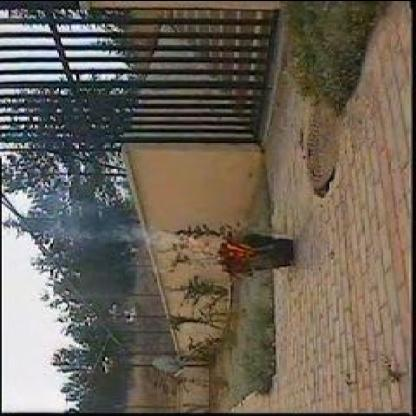-: (63, 219, 166, 247)
foggia-v2-map80-epoch100 - v1 4323: (223, 240, 254, 264)
